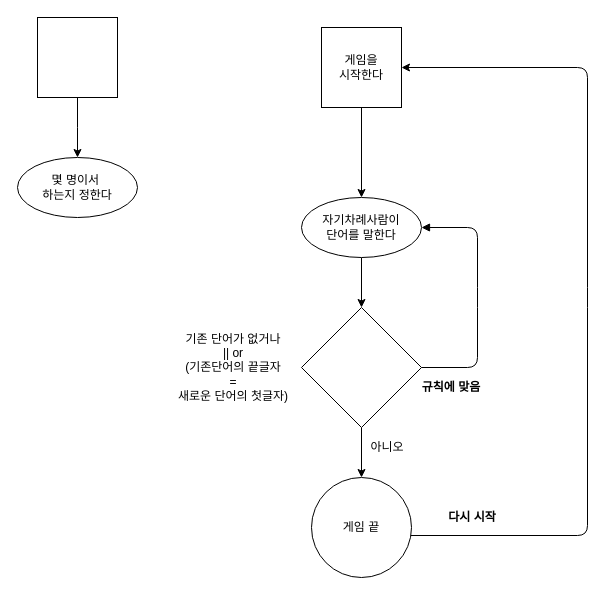
The diagram is 613 pixels wide and 595 high, and some of its shapes have lost their labels. Here are the shapes that lost their labels. From the top down, the centre of each, then its label:
At pixel 77 57: "게임을 준비를한다".
At pixel 361 367: "규칙에 맞는 단어인가".
